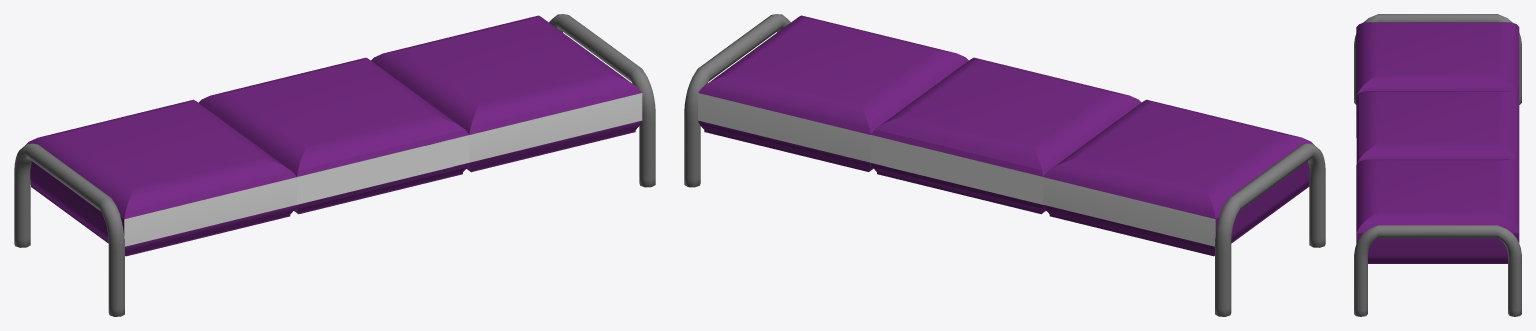
File: Seating_Color.fbx
3 renders of one model, left to right at view 1: azimuth 30°, elevation 25°; view 2: azimuth 150°, elevation 25°; view 3: azimuth 270°, elevation 25°, orthographic. The views are drawn at different scales.
Visible parts, largest first — view 1: polySurface6; view 2: polySurface6; view 3: polySurface6.
Boxes of the visible parts, x1,y1,x2,y2 form: polySurface6: (14, 14, 655, 316); polySurface6: (684, 14, 1325, 316); polySurface6: (1354, 14, 1521, 316).
Size of the model in its own units: 277 by 53.95 by 90.71.
